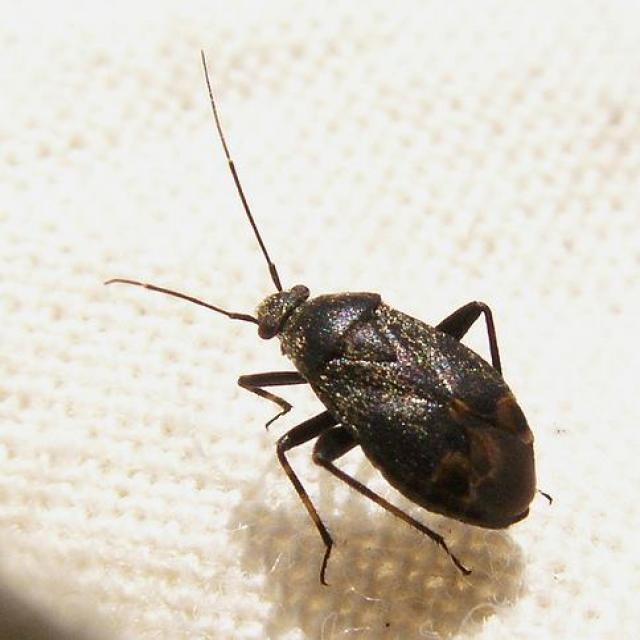Miridae-Adult-: (84, 42, 565, 593)
